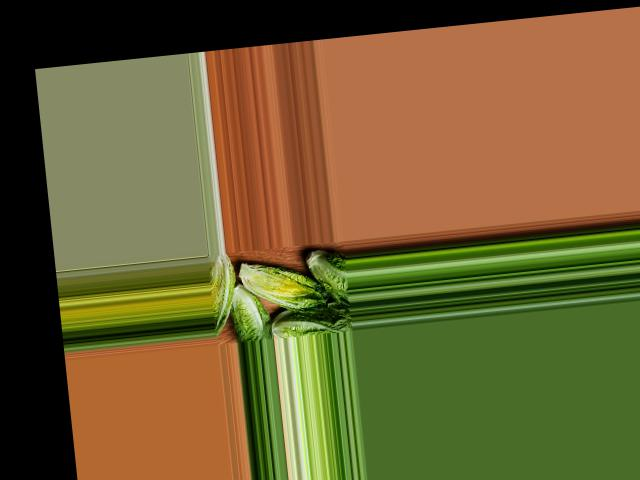lettuce: (206, 253, 242, 334)
